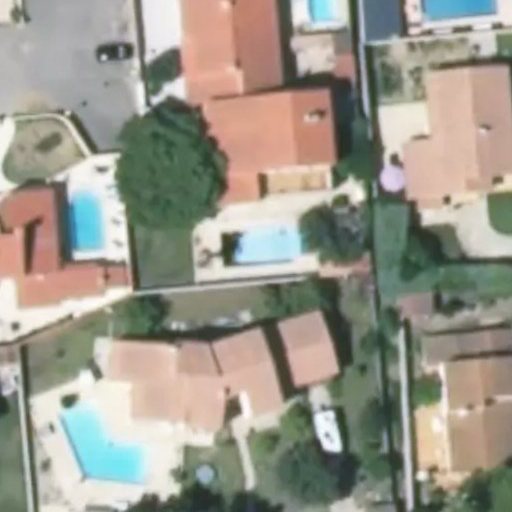pool: (220, 225, 293, 255)
